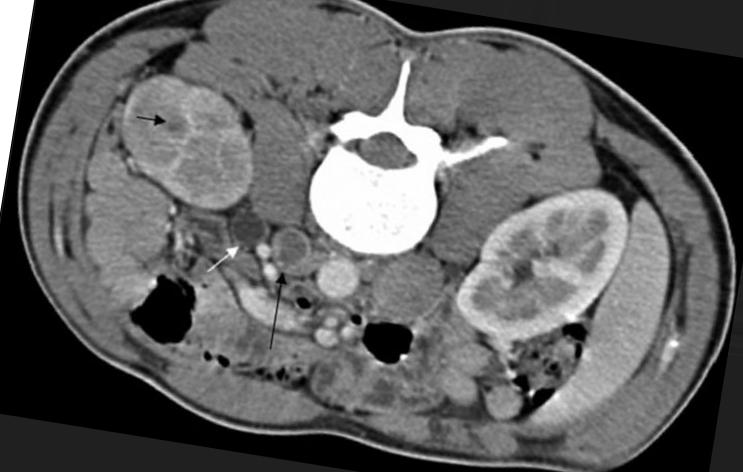anomaly: (272, 227, 316, 269)
